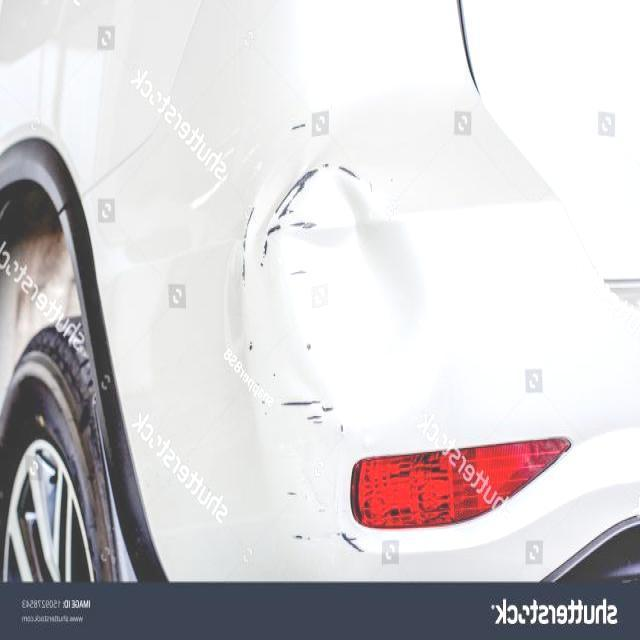minor: (336, 532, 364, 555), (287, 120, 309, 135), (307, 415, 325, 428), (294, 532, 308, 543), (288, 493, 294, 503)
moderate: (239, 165, 442, 411)
